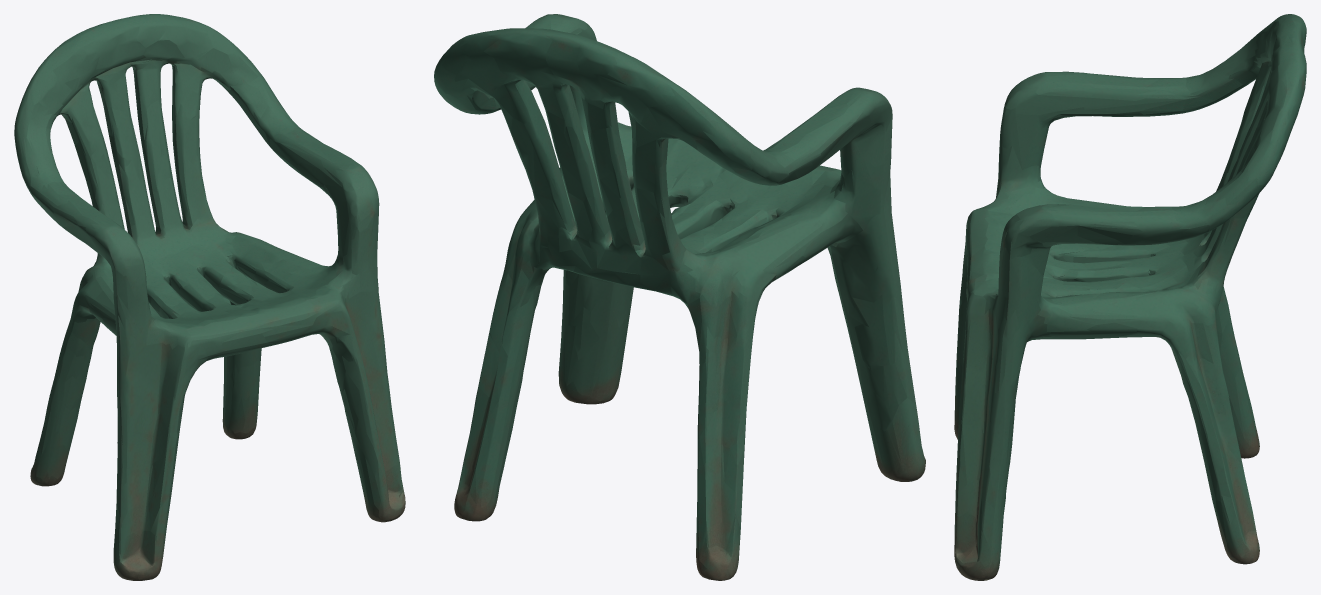
Rendered from sedia.glb.
3 renders of one model, left to right at view 1: azimuth 30°, elevation 25°; view 2: azimuth 150°, elevation 25°; view 3: azimuth 270°, elevation 25°, orthographic. The views are drawn at different scales.
Visible parts, largest first — view 1: Mesh_0; view 2: Mesh_0; view 3: Mesh_0.
Boxes of the visible parts, x1=… form: Mesh_0: x1=14, y1=14, x2=405, y2=580; Mesh_0: x1=434, y1=14, x2=925, y2=580; Mesh_0: x1=954, y1=14, x2=1306, y2=580.
Bounding box in the file's own units: 1.36 × 1.9 × 1.29.
1 material, 1 textured.
